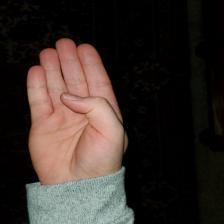four: (23, 36, 134, 201)
